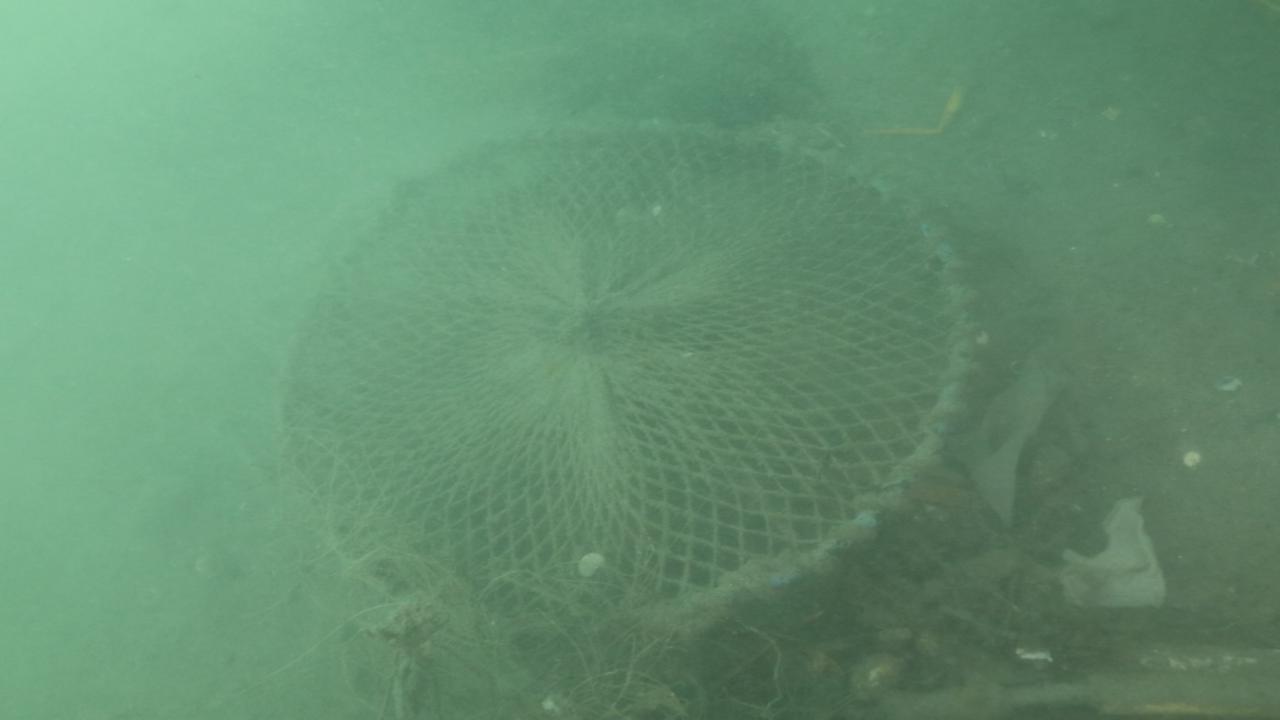circular fish trap: (259, 109, 985, 648)
